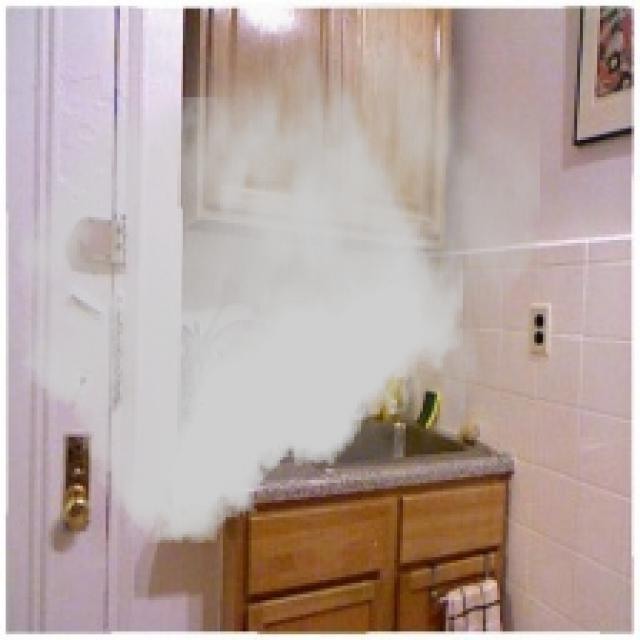Smoke: (14, 3, 540, 543)
